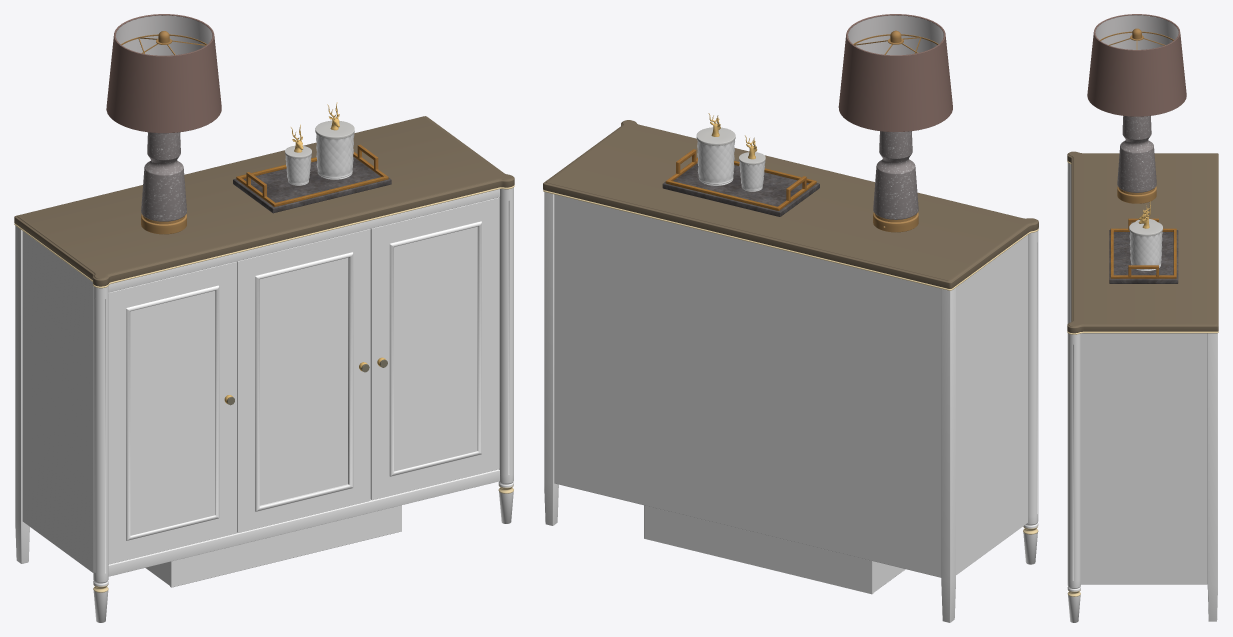
File: guizi.fbx
3 renders of one model, left to right at view 1: azimuth 30°, elevation 25°; view 2: azimuth 150°, elevation 25°; view 3: azimuth 270°, elevation 25°, orthographic. The views are drawn at different scales.
Parts seen in each view (by area): view 1: node_4f3bd4a5_6464_4663_a7b1_788d9be6aecb_mesh0, node_6a0ee387_c087_44e9_9d9d_aae553ea3507_mesh0, node_75a143d3_a320_485b_b3d6_ec56c92289ea_mesh0, node_e1f16d27_d2d8_476e_86fd_a6ded0f085db_mesh0, node_91196dc0_daf4_4a19_b455_ce55203bfe9a_mesh0, node_001f36eb_b520_4dd6_8d45_ea2154649b2b_mesh0, node_ef0879cd_72ad_4b2f_a5f3_bf9174deae45_mesh0, node_43365570_469c_4f6e_9f04_e4f3c1c5264a_mesh0, node_c7cc943f_c710_4ac4_9a4a_62c8cb9d093e_mesh0, node_a19c533c_e0ce_4afe_8ee4_bcc7832841bd_mesh0, node_1e159cbc_24c7_44f5_aab9_392bbbe2ab64_mesh0, node_114ea014_cb51_48f7_ab14_57393844695b_mesh0 (+6 smaller); view 2: node_aef82cae_a1a2_4da8_be07_4d5e269b41cc_mesh0, node_75a143d3_a320_485b_b3d6_ec56c92289ea_mesh0, node_e1f16d27_d2d8_476e_86fd_a6ded0f085db_mesh0, node_ef0879cd_72ad_4b2f_a5f3_bf9174deae45_mesh0, node_ceed64e4_fc6b_4c15_9869_a25bfd2da2bb_mesh0, node_083cff7d_6601_443d_aaf1_933bd02bb931_mesh0, node_363c5f2d_5b8d_40f0_bd8a_497eb40d01d6_mesh0, node_c7cc943f_c710_4ac4_9a4a_62c8cb9d093e_mesh0, node_f1ed9351_23da_4380_a612_7cd729de0bc3_mesh0, node_9a78bc67_d435_4513_ad60_21d51af49009_mesh0, node_2b3ff0ea_8e72_4089_aa0d_6cdb919a134d_mesh0, node_1e6d7da5_913a_48fd_9767_7fc4f62ec9a6_mesh0 (+1 smaller); view 3: node_377a8912_a3fc_4c24_b0f9_fe2661856806_mesh0, node_75a143d3_a320_485b_b3d6_ec56c92289ea_mesh0, node_ef0879cd_72ad_4b2f_a5f3_bf9174deae45_mesh0, node_1e159cbc_24c7_44f5_aab9_392bbbe2ab64_mesh0, node_363c5f2d_5b8d_40f0_bd8a_497eb40d01d6_mesh0, node_f1ed9351_23da_4380_a612_7cd729de0bc3_mesh0, node_9a78bc67_d435_4513_ad60_21d51af49009_mesh0, node_2b3ff0ea_8e72_4089_aa0d_6cdb919a134d_mesh0, node_1e6d7da5_913a_48fd_9767_7fc4f62ec9a6_mesh0, node_c7cc943f_c710_4ac4_9a4a_62c8cb9d093e_mesh0, node_7b5c813b_0d2b_4cf0_974c_3719acd484c1_mesh0, node_5c8ed9d3_4363_4b87_a83f_e6fc02e0ccba_mesh0 (+1 smaller).
Part boxes in pixels (box(x1,y1,x2,y2)): node_4f3bd4a5_6464_4663_a7b1_788d9be6aecb_mesh0: box(370, 197, 499, 499); node_6a0ee387_c087_44e9_9d9d_aae553ea3507_mesh0: box(108, 261, 236, 564); node_75a143d3_a320_485b_b3d6_ec56c92289ea_mesh0: box(14, 116, 514, 286); node_e1f16d27_d2d8_476e_86fd_a6ded0f085db_mesh0: box(22, 231, 93, 572); node_91196dc0_daf4_4a19_b455_ce55203bfe9a_mesh0: box(259, 258, 347, 505); node_001f36eb_b520_4dd6_8d45_ea2154649b2b_mesh0: box(237, 229, 370, 532); node_ef0879cd_72ad_4b2f_a5f3_bf9174deae45_mesh0: box(106, 14, 221, 133); node_43365570_469c_4f6e_9f04_e4f3c1c5264a_mesh0: box(170, 505, 401, 587); node_c7cc943f_c710_4ac4_9a4a_62c8cb9d093e_mesh0: box(93, 286, 108, 622); node_a19c533c_e0ce_4afe_8ee4_bcc7832841bd_mesh0: box(108, 469, 499, 576); node_1e159cbc_24c7_44f5_aab9_392bbbe2ab64_mesh0: box(498, 187, 513, 523); node_114ea014_cb51_48f7_ab14_57393844695b_mesh0: box(108, 189, 499, 292); node_aef82cae_a1a2_4da8_be07_4d5e269b41cc_mesh0: box(554, 194, 941, 577); node_75a143d3_a320_485b_b3d6_ec56c92289ea_mesh0: box(543, 120, 1038, 288); node_e1f16d27_d2d8_476e_86fd_a6ded0f085db_mesh0: box(956, 235, 1027, 574); node_ef0879cd_72ad_4b2f_a5f3_bf9174deae45_mesh0: box(838, 14, 952, 132); node_ceed64e4_fc6b_4c15_9869_a25bfd2da2bb_mesh0: box(644, 505, 873, 594); node_083cff7d_6601_443d_aaf1_933bd02bb931_mesh0: box(941, 287, 955, 622); node_363c5f2d_5b8d_40f0_bd8a_497eb40d01d6_mesh0: box(544, 192, 558, 525); node_c7cc943f_c710_4ac4_9a4a_62c8cb9d093e_mesh0: box(1023, 231, 1038, 564); node_f1ed9351_23da_4380_a612_7cd729de0bc3_mesh0: box(873, 131, 918, 219); node_9a78bc67_d435_4513_ad60_21d51af49009_mesh0: box(662, 163, 819, 216); node_2b3ff0ea_8e72_4089_aa0d_6cdb919a134d_mesh0: box(697, 140, 765, 191); node_1e6d7da5_913a_48fd_9767_7fc4f62ec9a6_mesh0: box(665, 149, 816, 210); node_377a8912_a3fc_4c24_b0f9_fe2661856806_mesh0: box(1080, 333, 1207, 584); node_75a143d3_a320_485b_b3d6_ec56c92289ea_mesh0: box(1067, 151, 1218, 333); node_ef0879cd_72ad_4b2f_a5f3_bf9174deae45_mesh0: box(1087, 14, 1186, 116); node_1e159cbc_24c7_44f5_aab9_392bbbe2ab64_mesh0: box(1067, 333, 1080, 622); node_363c5f2d_5b8d_40f0_bd8a_497eb40d01d6_mesh0: box(1207, 333, 1217, 621); node_f1ed9351_23da_4380_a612_7cd729de0bc3_mesh0: box(1117, 116, 1156, 192); node_9a78bc67_d435_4513_ad60_21d51af49009_mesh0: box(1109, 230, 1178, 283); node_2b3ff0ea_8e72_4089_aa0d_6cdb919a134d_mesh0: box(1129, 231, 1162, 270); node_1e6d7da5_913a_48fd_9767_7fc4f62ec9a6_mesh0: box(1110, 218, 1176, 278); node_c7cc943f_c710_4ac4_9a4a_62c8cb9d093e_mesh0: box(1067, 163, 1071, 323); node_7b5c813b_0d2b_4cf0_974c_3719acd484c1_mesh0: box(1117, 186, 1156, 203); node_5c8ed9d3_4363_4b87_a83f_e6fc02e0ccba_mesh0: box(1067, 161, 1218, 334).
Bounding box in the file's own units: 15253 × 18719 × 5546.
2 materials, 2 textured.
